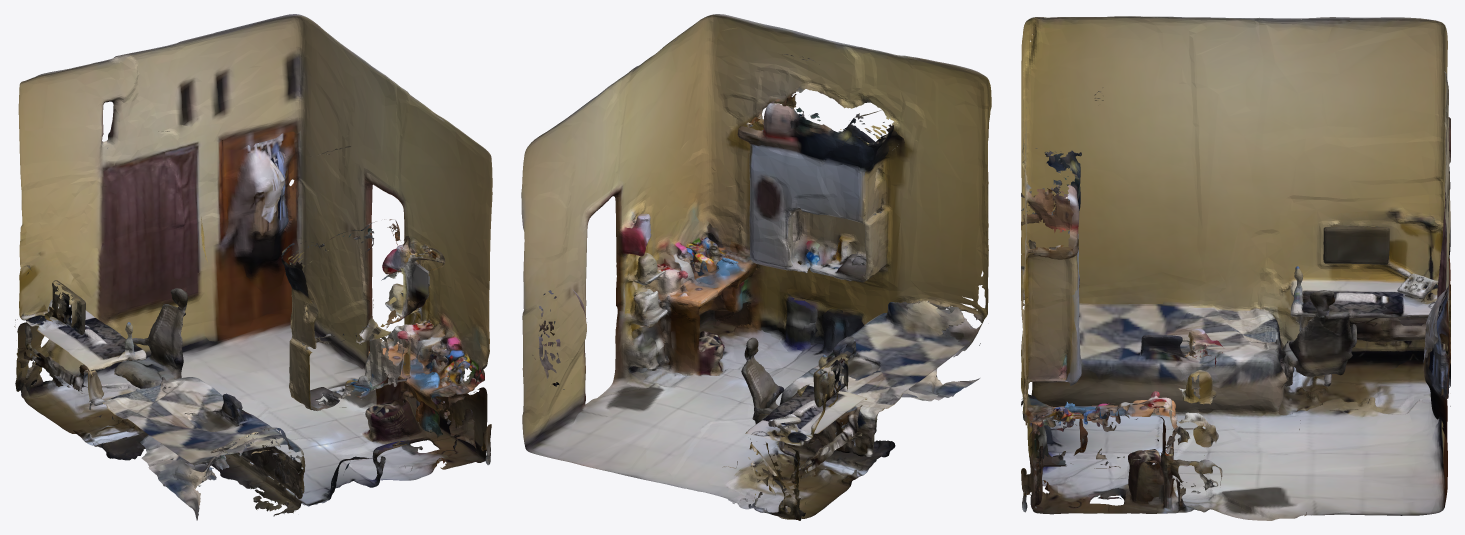
The model's file is room.glb.
The picture shows the model from 3 angles, left to right: view 1: azimuth 30°, elevation 25°; view 2: azimuth 150°, elevation 25°; view 3: azimuth 270°, elevation 25°; orthographic projection. The views are drawn at different scales.
Visible parts, largest first — view 1: mesh; view 2: mesh; view 3: mesh.
Part boxes in pixels (x1,y1,x2,y2): mesh: (14,14,492,520); mesh: (521,14,991,520); mesh: (1021,16,1450,520).
Bounding box in the file's own units: 2.93 × 3.15 × 3.4.
1 material, 1 textured.
